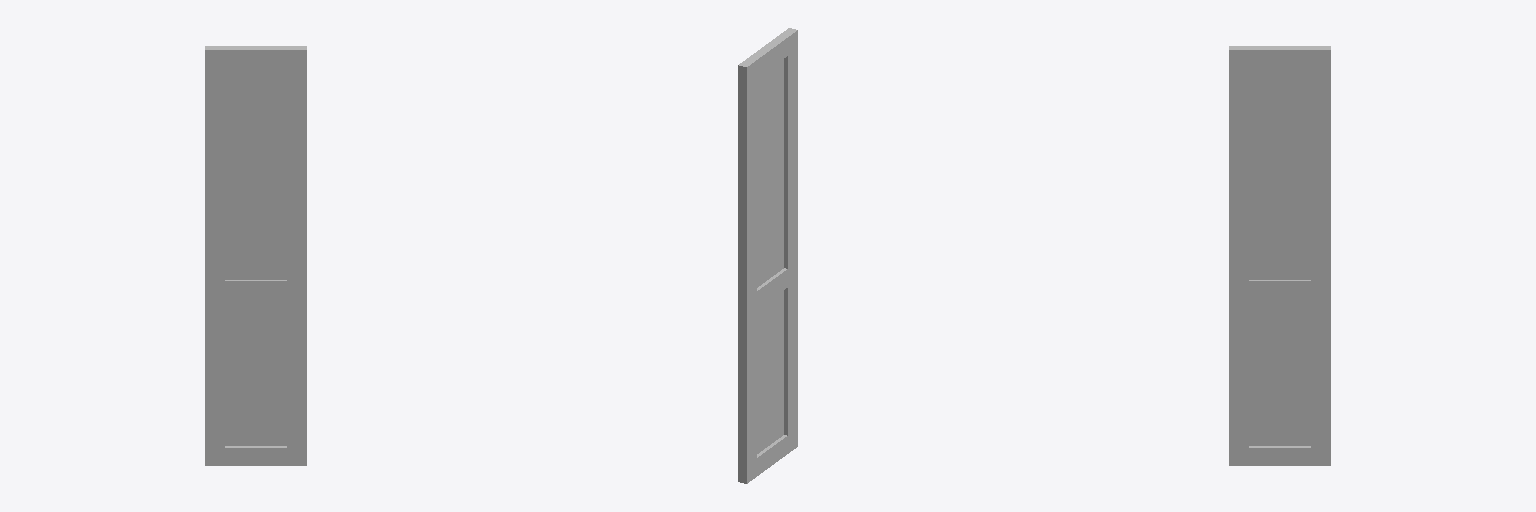
The model's file is glasspanedoor.obj.
The picture shows the model from 3 angles: view 1: azimuth 90°, elevation 25°; view 2: azimuth 150°, elevation 25°; view 3: azimuth 270°, elevation 25°; orthographic projection.
Visible parts, largest first — view 1: Cube.002, Cube.001; view 2: Cube.001, Cube.002; view 3: Cube.002, Cube.001.
Part boxes in pixels (left/top/right/bottom): Cube.002: left=225, top=68, right=286, bottom=445; Cube.001: left=205, top=46, right=306, bottom=465; Cube.001: left=738, top=28, right=797, bottom=483; Cube.002: left=757, top=59, right=783, bottom=453; Cube.002: left=1249, top=68, right=1310, bottom=445; Cube.001: left=1229, top=46, right=1330, bottom=465.
Bounding box in the file's own units: 0.1 × 4.5 × 1.